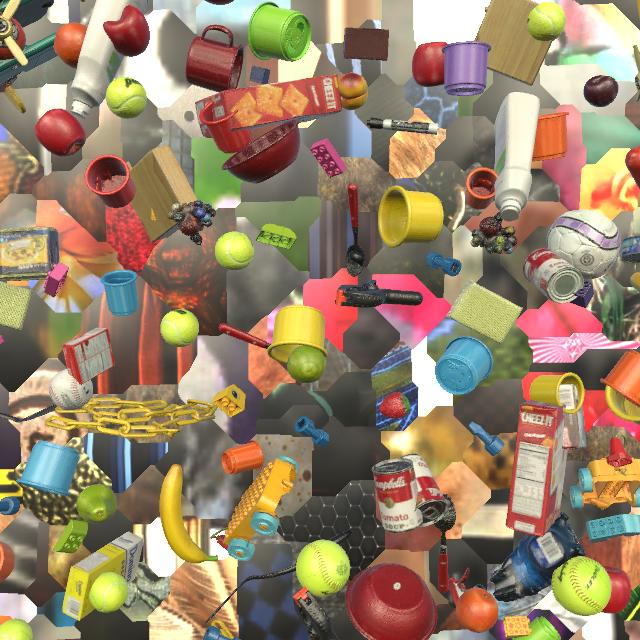ycb_003_cracker_box: (195, 74, 342, 138), (506, 400, 568, 537)
ycb_004_sugar_box: (63, 531, 143, 621)
ycb_005_tomato_soup_can: (372, 458, 423, 533), (400, 454, 449, 527), (523, 248, 584, 304)
ycb_006_mustard_bottle: (636, 0, 640, 20)
ycb_007_tuna_fish_can: (621, 236, 640, 265)
ycb_008_pudding_box: (559, 383, 587, 450)
ycb_009_gelatin_box: (62, 327, 115, 385)
ycb_010_potted_meat_can: (0, 227, 60, 281)
ycb_011_banana: (160, 464, 218, 563), (630, 272, 640, 292)
ycb_012_strawberry: (379, 392, 411, 418)
ycb_013_apple: (34, 108, 86, 157), (103, 5, 150, 57), (412, 41, 448, 87), (602, 565, 631, 614), (205, 0, 234, 5)
ycb_015_peach: (338, 73, 368, 110), (3, 77, 11, 83)
ycb_016_pear: (76, 484, 117, 524), (287, 345, 326, 383)
ycb_017_orange: (456, 588, 499, 633), (53, 23, 88, 69)
ycb_018_plum: (583, 75, 619, 107)
